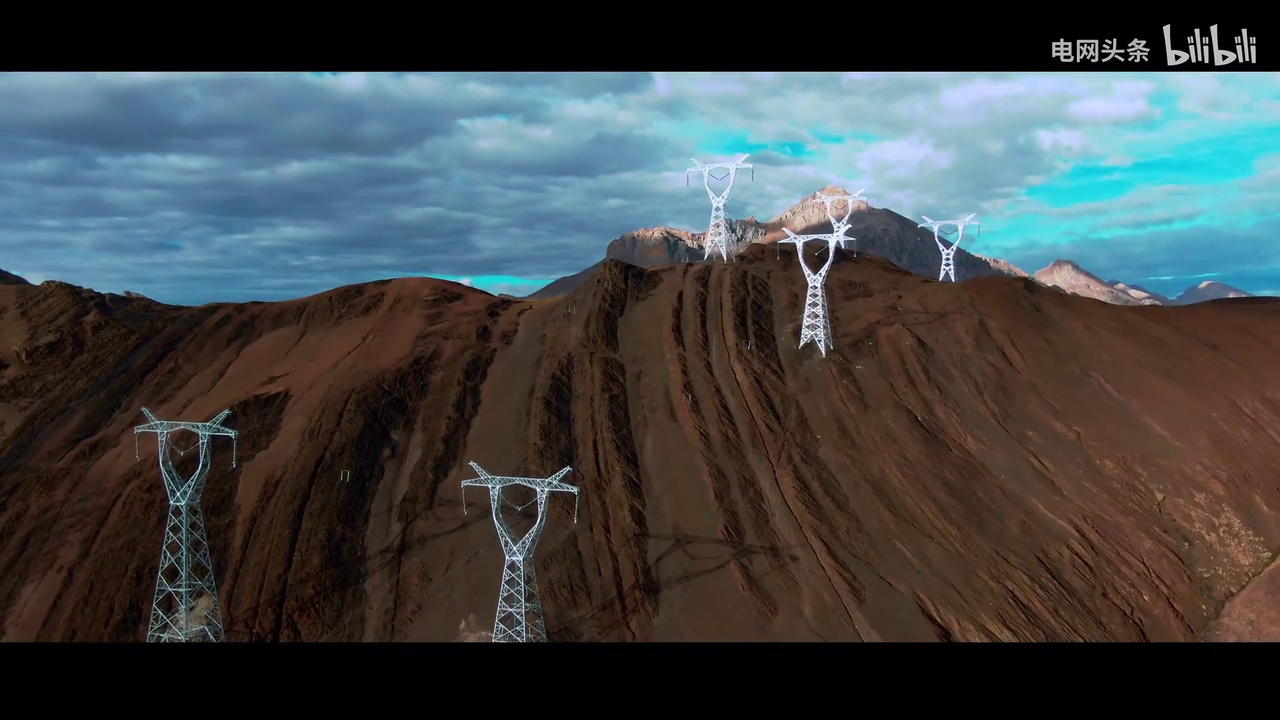tower_body: (117, 398, 266, 641), (447, 447, 590, 647), (668, 140, 762, 269), (916, 213, 972, 288)
tower_foot: (147, 583, 230, 639), (485, 598, 555, 644), (794, 310, 839, 356), (701, 223, 738, 263)
tower_head: (454, 454, 587, 558), (123, 404, 255, 507), (770, 222, 849, 282), (675, 151, 759, 206)
